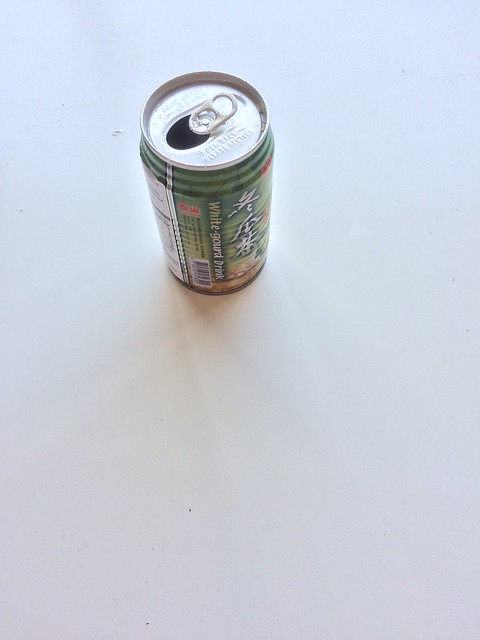can: (132, 67, 282, 299)
